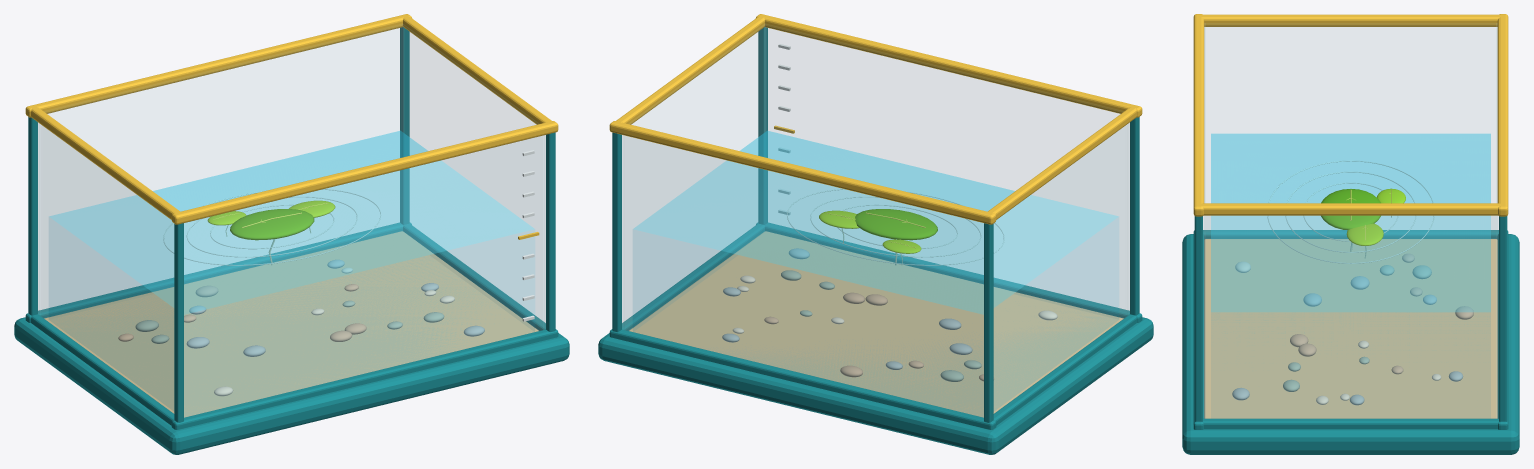
Rendered from duckweed_tank.glb.
3 views of the same model, side by side, from view 1: azimuth 30°, elevation 25°; view 2: azimuth 150°, elevation 25°; view 3: azimuth 270°, elevation 25° (orthographic). The views are drawn at different scales.
Visible parts, largest first — view 1: GlassWall, WaterBody, Bottom, WaterSurface, GlassWall.001, GlassWall.002, DisplayBase, GlassWall.003, Rim.004, Rim.005, Rim, Rim.001 (+10 smaller); view 2: GlassWall.001, Bottom, WaterSurface, GlassWall, WaterBody, GlassWall.002, GlassWall.003, DisplayBase, Rim.005, Rim.004, Rim.001, Rim (+11 smaller); view 3: GlassWall.003, Bottom, WaterSurface, GlassWall.002, WaterBody, DisplayBase, Rim.007, Rim.006, Rim.003, Rim.005, Rim.004, Rim.002 (+11 smaller).
Part boxes in pixels (bbox=[...]): GlassWall: bbox=[184, 136, 544, 417]; WaterBody: bbox=[49, 131, 534, 416]; Bottom: bbox=[44, 231, 538, 417]; WaterSurface: bbox=[50, 131, 533, 314]; GlassWall.001: bbox=[39, 27, 403, 312]; GlassWall.002: bbox=[38, 123, 173, 412]; DisplayBase: bbox=[14, 317, 569, 454]; GlassWall.003: bbox=[402, 27, 545, 327]; Rim.004: bbox=[171, 121, 558, 224]; Rim.005: bbox=[25, 14, 411, 117]; Rim: bbox=[171, 329, 558, 429]; Rim.001: bbox=[25, 222, 411, 322]; GlassWall.001: bbox=[623, 136, 983, 417]; Bottom: bbox=[629, 231, 1123, 417]; WaterSurface: bbox=[634, 131, 1118, 314]; GlassWall: bbox=[764, 27, 1128, 312]; WaterBody: bbox=[633, 131, 1118, 416]; GlassWall.002: bbox=[994, 123, 1129, 412]; GlassWall.003: bbox=[622, 27, 765, 327]; DisplayBase: bbox=[598, 317, 1153, 454]; Rim.005: bbox=[609, 121, 996, 224]; Rim.004: bbox=[756, 14, 1142, 117]; Rim.001: bbox=[609, 329, 996, 429]; Rim: bbox=[756, 222, 1142, 322]; GlassWall.003: bbox=[1204, 216, 1497, 418]; Bottom: bbox=[1204, 239, 1497, 418]; WaterSurface: bbox=[1211, 134, 1490, 311]; GlassWall.002: bbox=[1205, 27, 1496, 231]; WaterBody: bbox=[1211, 134, 1490, 345]; DisplayBase: bbox=[1182, 234, 1519, 454]; Rim.007: bbox=[1199, 203, 1501, 215]; Rim.006: bbox=[1200, 14, 1502, 26]; Rim.003: bbox=[1203, 418, 1498, 429]; Rim.005: bbox=[1497, 14, 1508, 216]; Rim.004: bbox=[1193, 14, 1204, 216]; Rim.002: bbox=[1203, 230, 1498, 239].
Bounding box in the file's own units: 2.02 × 1.14 × 1.42.
